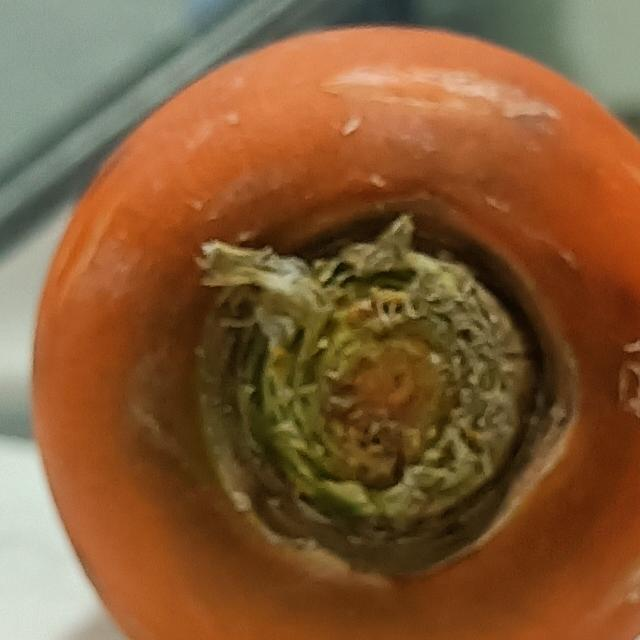carrot: (28, 17, 640, 640)
